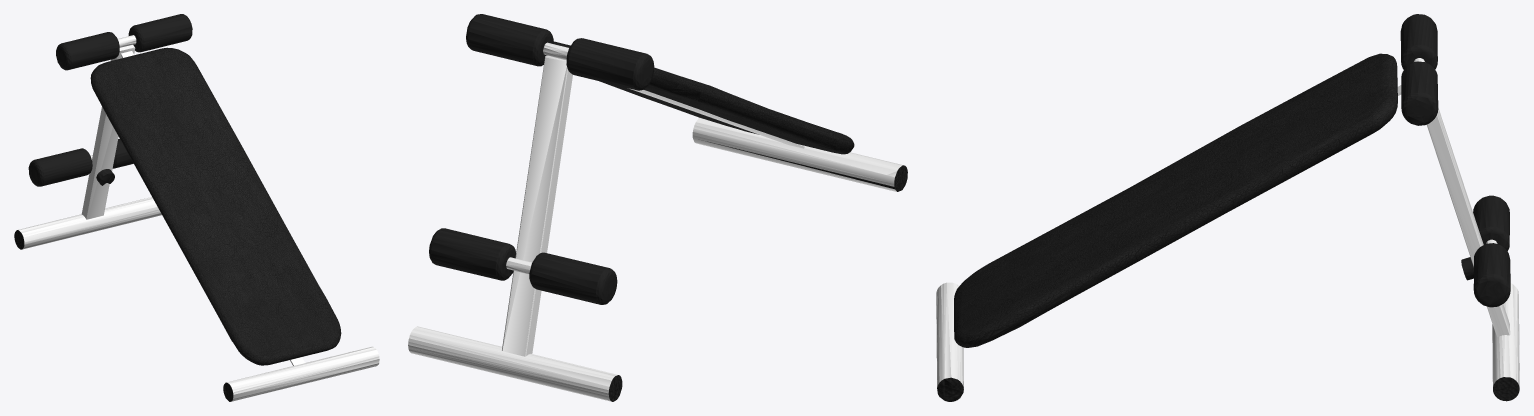
The model's file is Ab bench.FBX.
3 renders of one model, left to right at view 1: azimuth 30°, elevation 25°; view 2: azimuth 150°, elevation 25°; view 3: azimuth 270°, elevation 25°, orthographic. The views are drawn at different scales.
Visible parts, largest first — view 1: ab bench; view 2: ab bench; view 3: ab bench.
Boxes of the visible parts, left/top/right/bottom form: ab bench: left=14, top=14, right=379, bottom=401; ab bench: left=408, top=14, right=907, bottom=401; ab bench: left=936, top=14, right=1519, bottom=401.
Size of the model in its own units: 31.82 by 46.55 by 81.97.
Materials: 1 (1 with a texture image).
